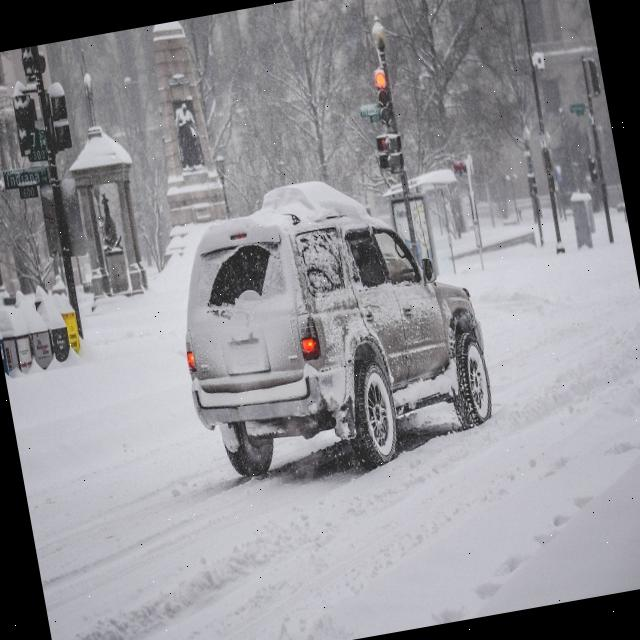car: (168, 180, 502, 485)
